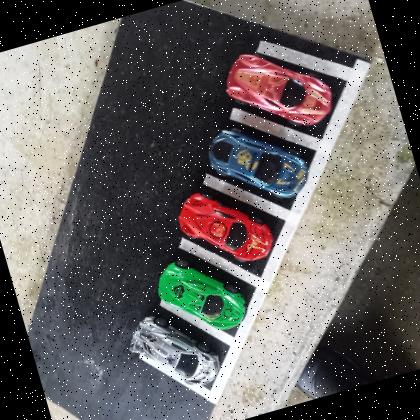Car: (216, 32, 340, 146), (200, 108, 314, 214), (120, 298, 226, 402), (172, 175, 278, 276), (150, 244, 252, 344)
